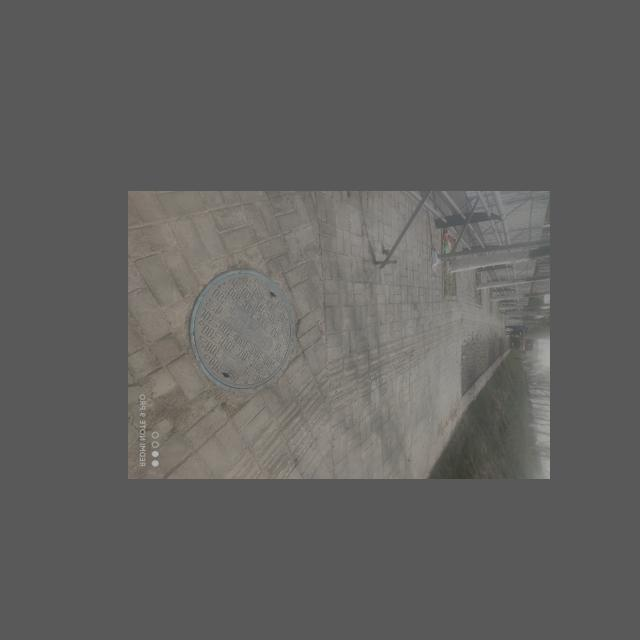good: (189, 269, 295, 392)
